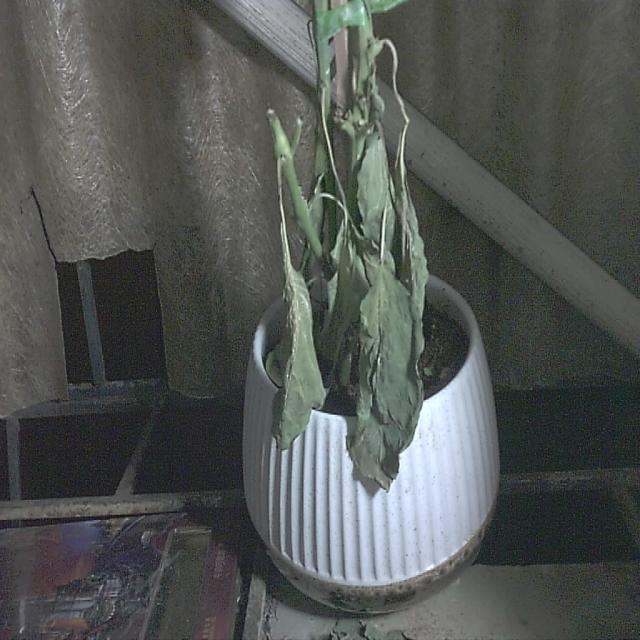Leaf: (345, 267, 423, 493), (270, 264, 326, 452)
